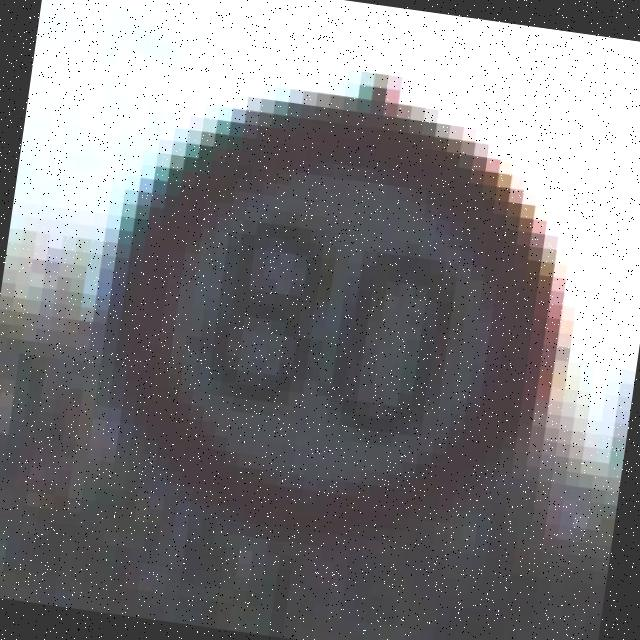Ograniczenie predkosci do 80: (84, 80, 580, 574)
